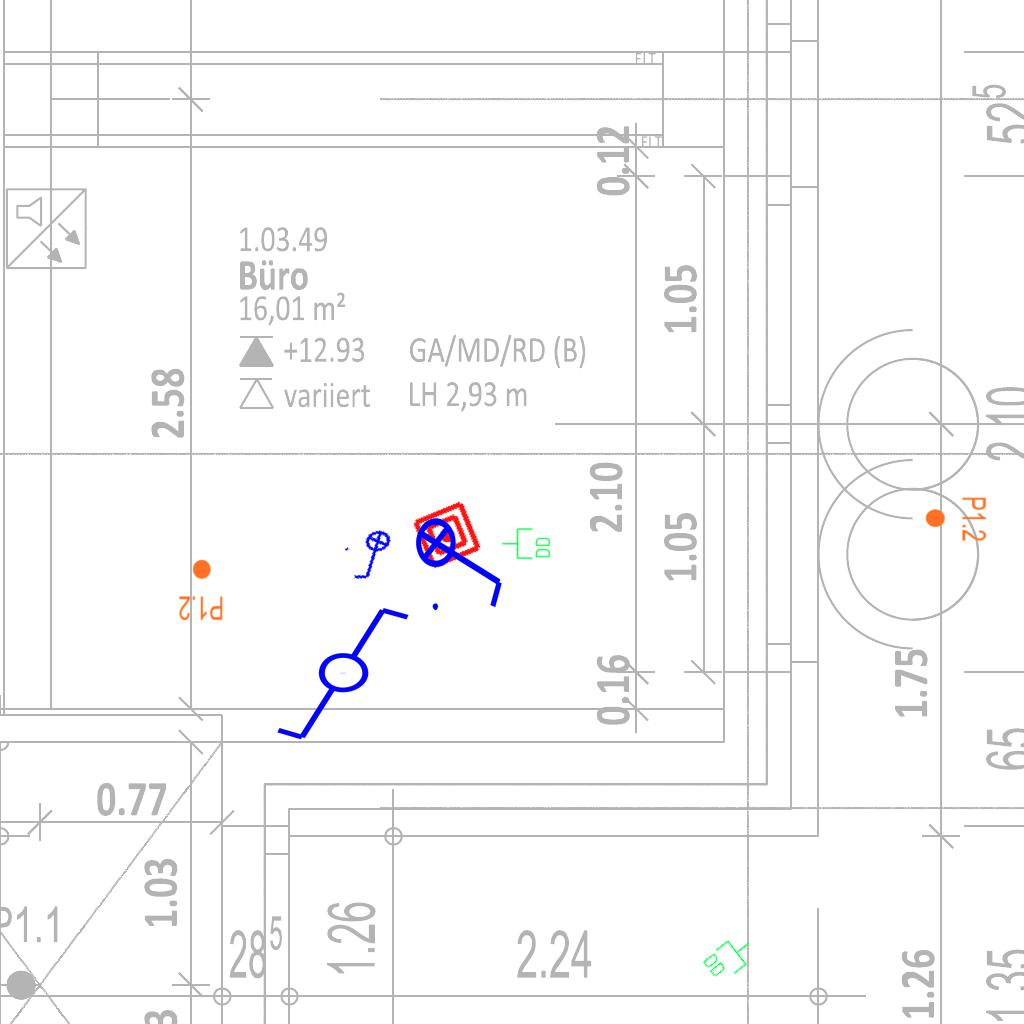Ausschalter_beleuchtet: (414, 504, 510, 616), (339, 525, 407, 587)
Datenanschluss_zweifach: (698, 928, 761, 988), (501, 527, 552, 561)
Downlight_LED_Einbauleuchten_Flur: (924, 496, 988, 542), (178, 558, 224, 622)
NAM-Nichtautomatischer_Melder: (410, 498, 484, 572)
Wechselschalter: (273, 603, 430, 747)
